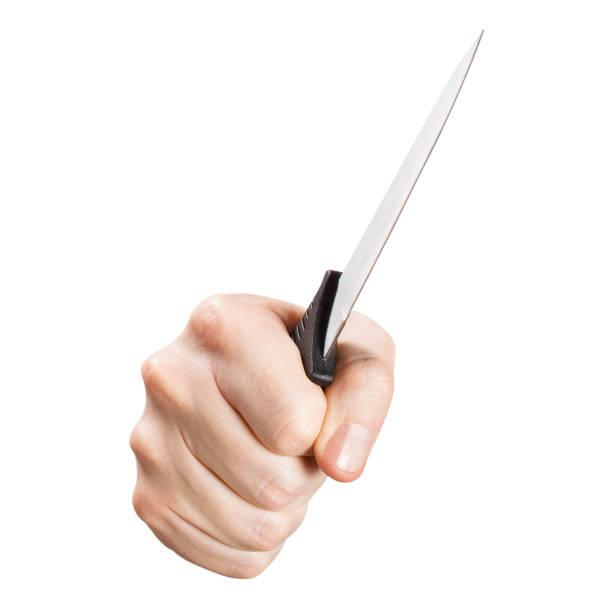Knife: (137, 290, 397, 578), (306, 32, 484, 377)
